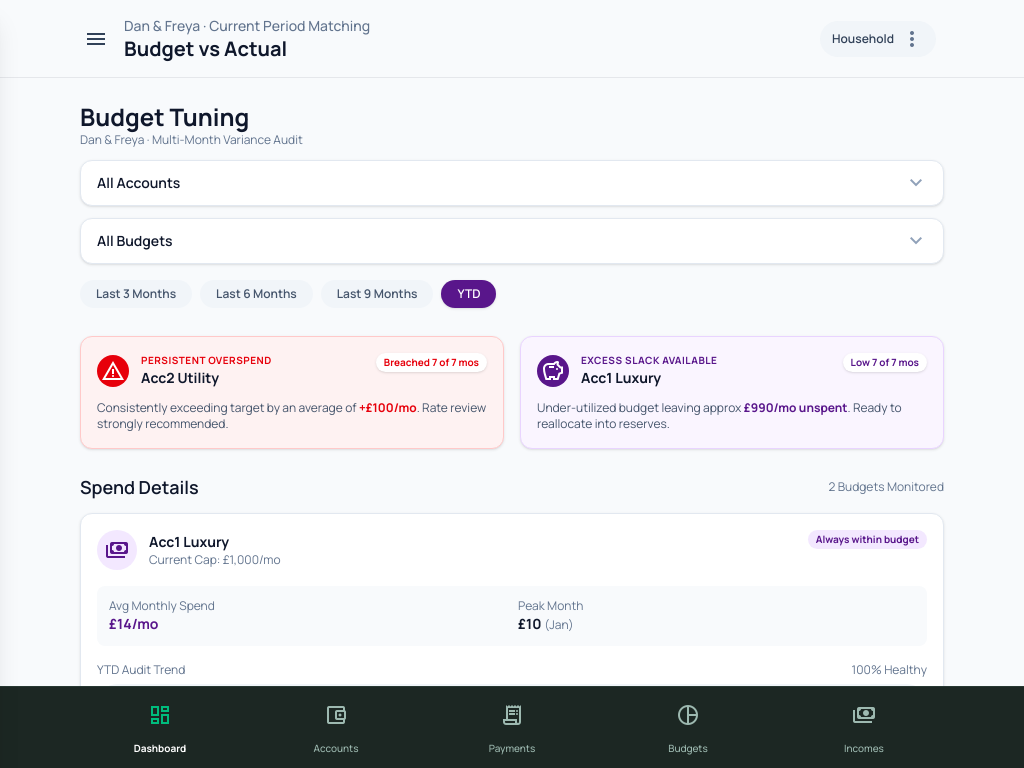
Scenario: BudgetReviewPage › recalculates overspend and slack based on selected account scope
The image size is (1024, 768).
expect the heading "Acc2 Utility" is shown: met, box [141,368,219,387]
expect the heading "Acc1 Luxury" below "Excess Slack Available" is shown: met, box [581,368,661,387]
Note: Filter to acc_1 only
Select "Barclays Main" in the 1st dropdown at (512, 183), box [80,160,944,206]
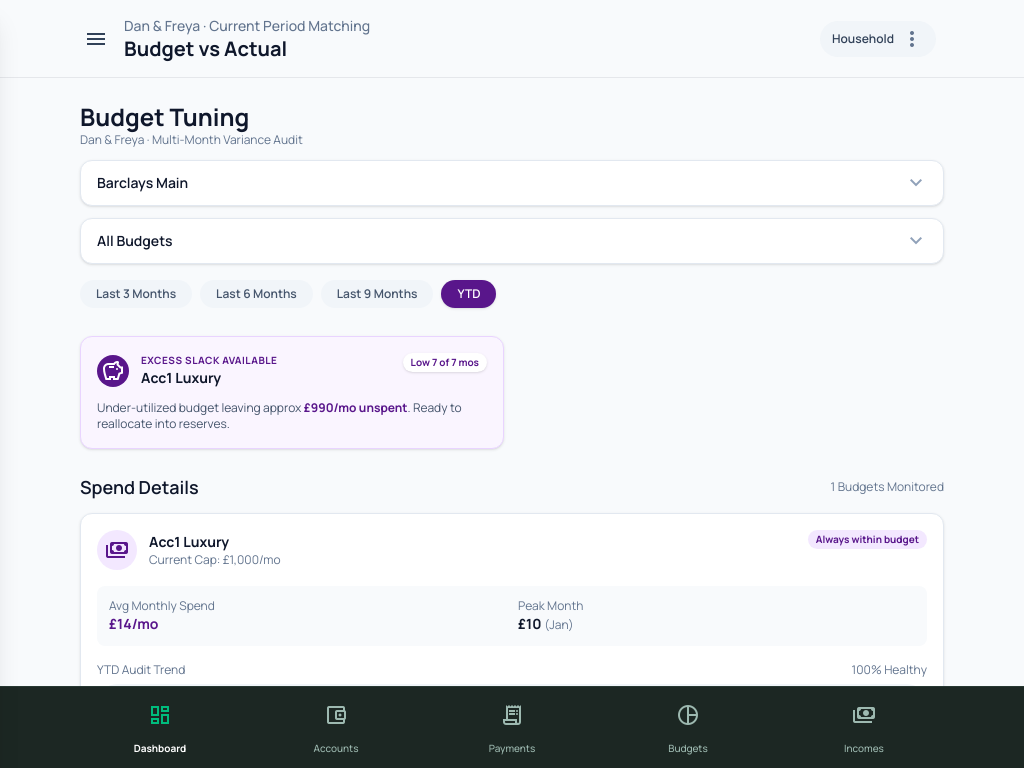
expect the heading "Acc1 Luxury" below "Excess Slack Available" is shown: met, box [141,368,221,387]
expect the heading "Acc2 Utility" is gone: met
expect the text "Persistent Overspend" is gone: met
